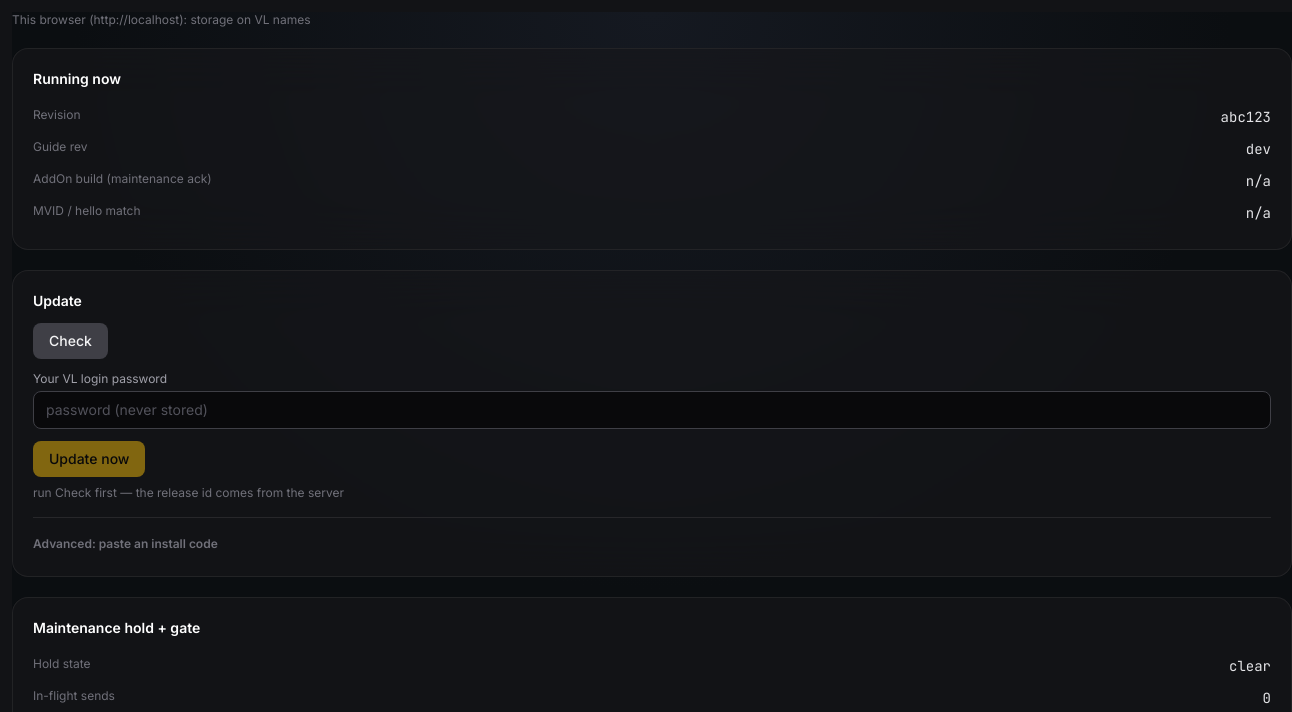
UpdatesPage › a rejected check restores the label and renders status + server reason
The width and height of the screenshot is (1292, 712).
Expected: the button "Update now" is shown, left=33, top=441, right=146, bottom=477
What coordinates should you click on to do the following:
click the button with test id "check-button"
I would click on:
 (70, 341)
Its box is left=33, top=323, right=108, bottom=359.
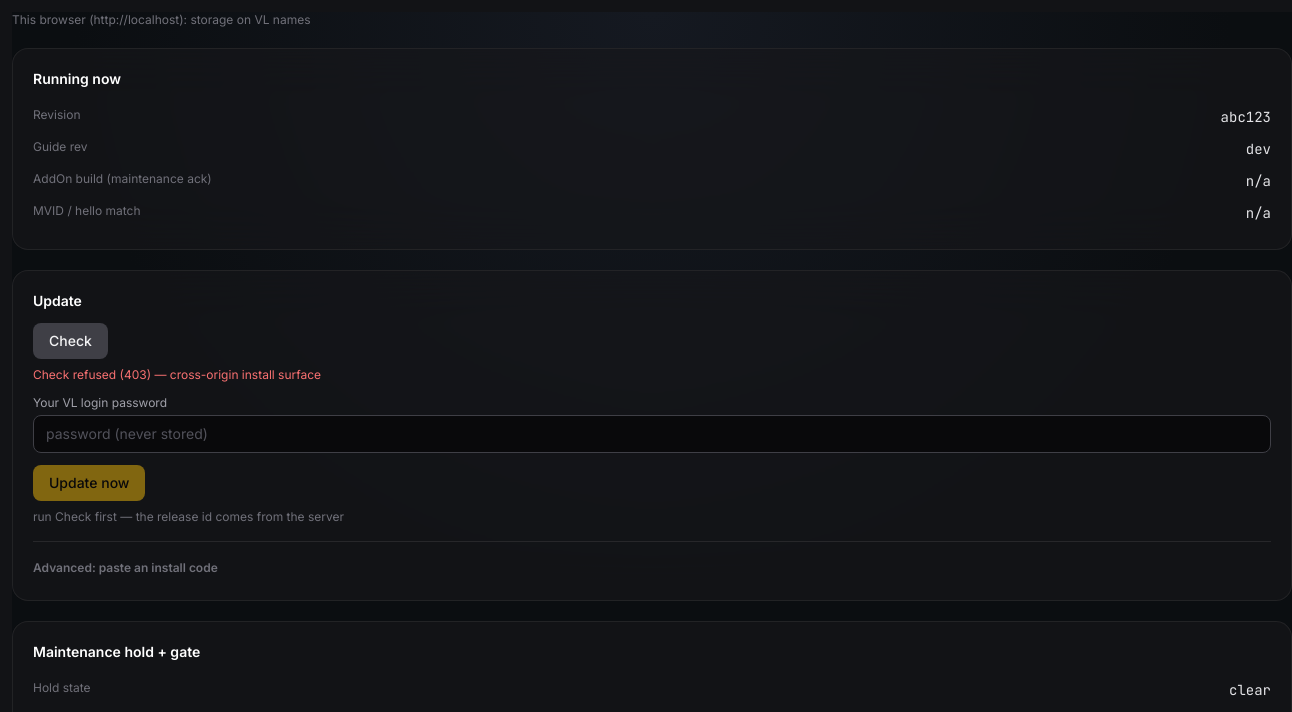
Now the text with test id "check-error" shows "cross-origin install surface", box left=33, top=367, right=321, bottom=382
Now the text with test id "check-error" shows "(403)", box left=33, top=367, right=321, bottom=382
